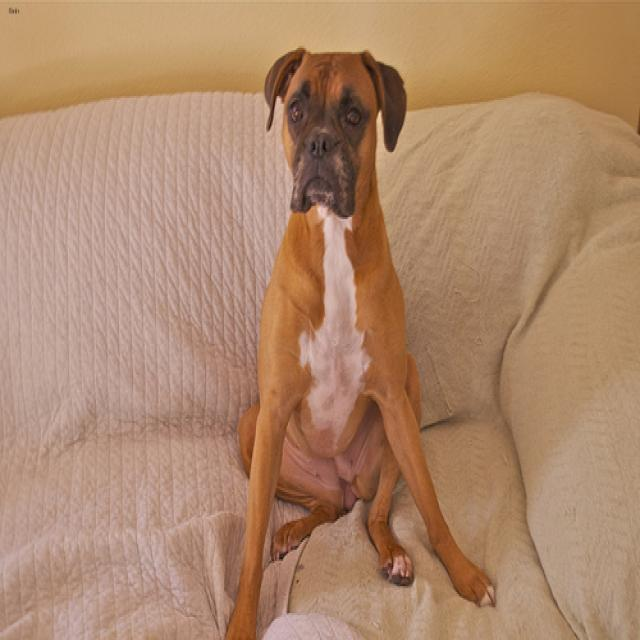dog-boxer: (216, 33, 507, 636)
